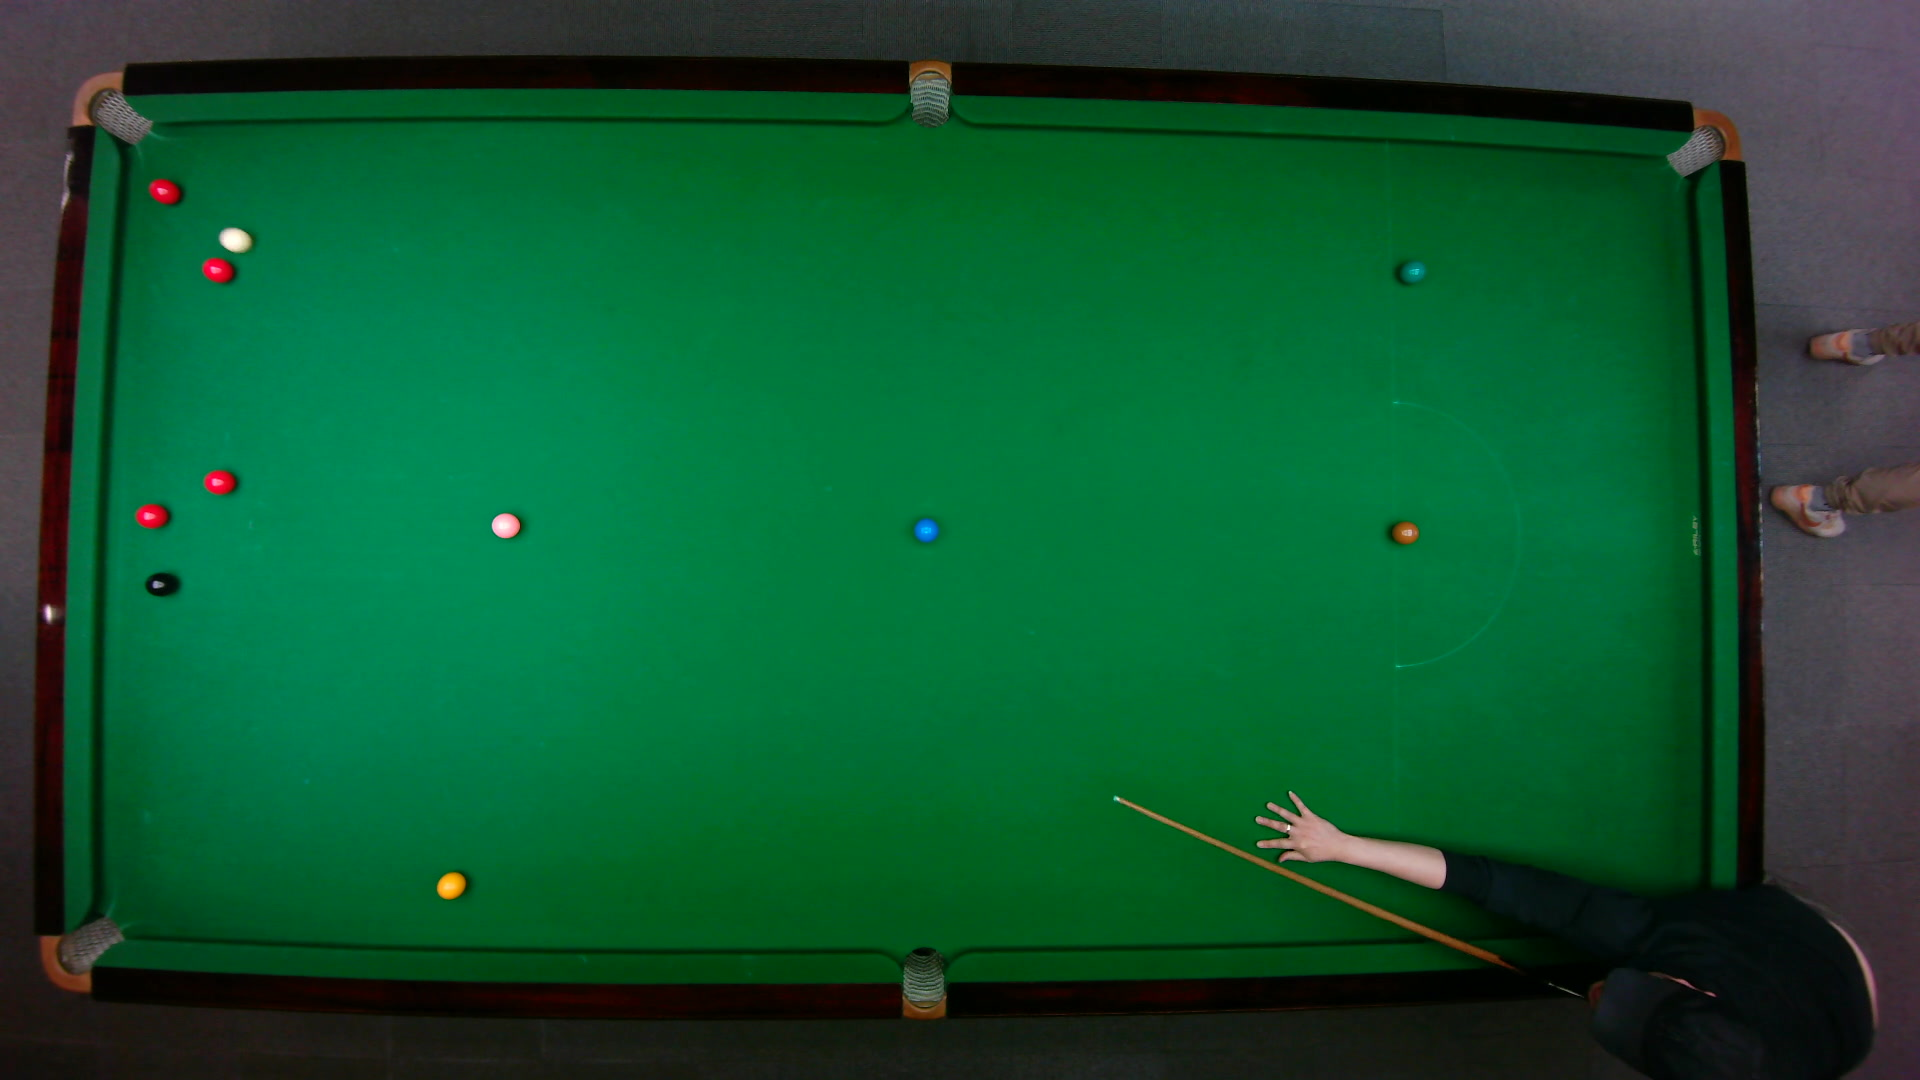bag: (38, 914, 125, 993), (69, 69, 153, 145), (1663, 107, 1741, 177), (901, 944, 944, 1021), (909, 57, 949, 128)
black: (142, 570, 175, 596)
blue: (911, 516, 939, 543)
brown: (1389, 520, 1419, 545)
cue: (1112, 793, 1565, 997)
green: (1396, 258, 1425, 284)
pink: (489, 510, 521, 539)
red: (199, 255, 235, 284), (146, 177, 181, 204), (133, 502, 169, 527), (203, 468, 236, 495)
white: (216, 224, 253, 255)
yellow: (435, 869, 465, 899)
zone: (1390, 398, 1520, 667)
